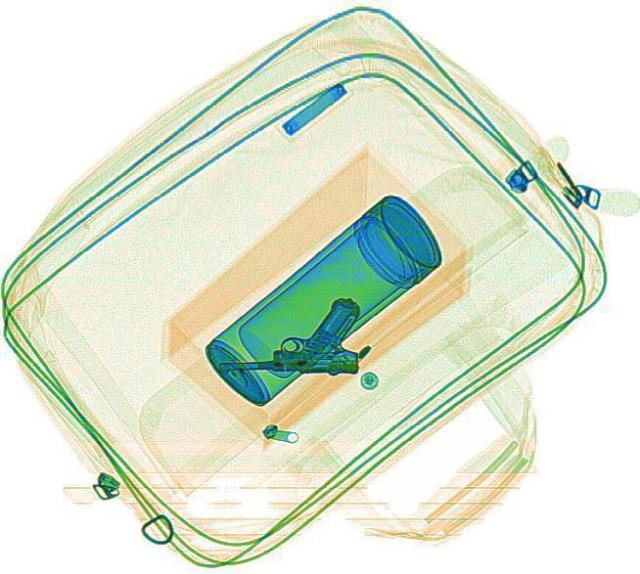Gun: (216, 295, 360, 374)
